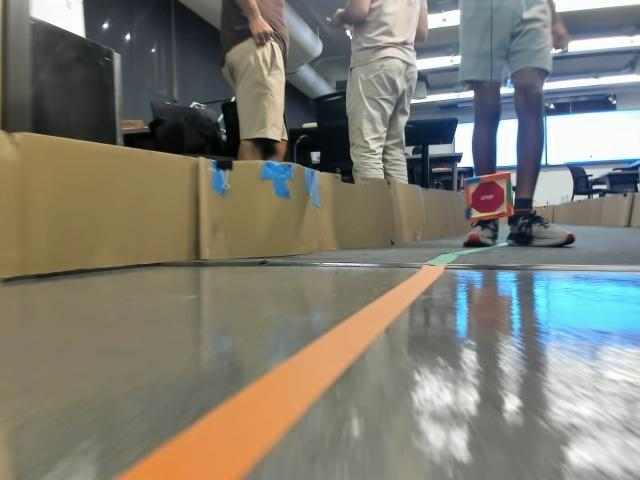Stop: (471, 182, 503, 212)
